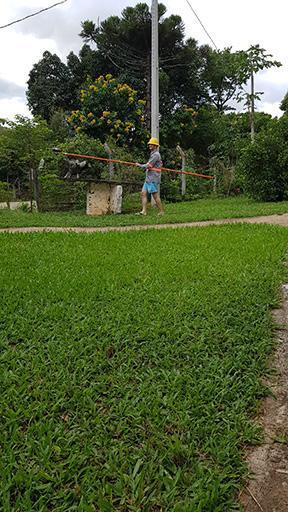helmet: (147, 137, 160, 150)
